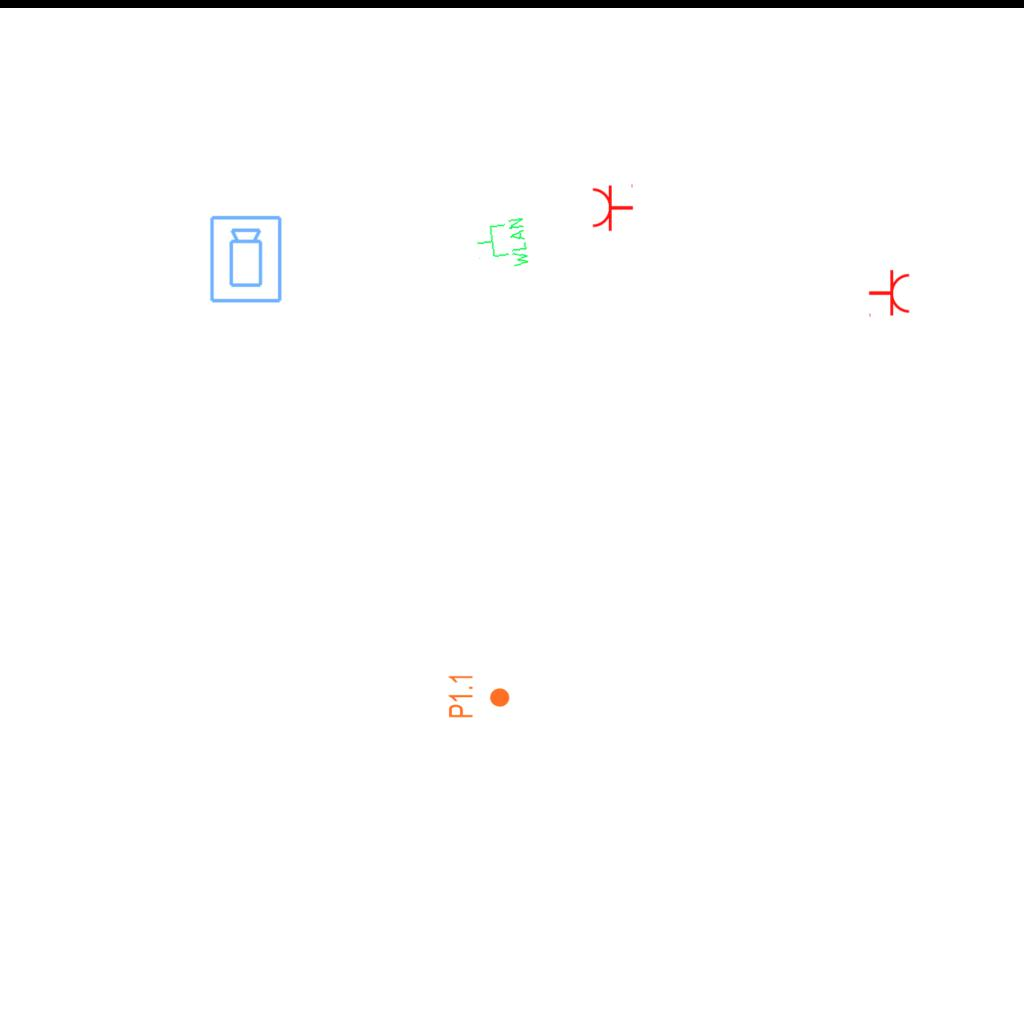Downlight_LED_Einbauleuchten_Flur: (447, 673, 511, 719)
KFO_Kamera_mit_Festobjektiv: (208, 214, 285, 305)
Schukosteckdose_einfach: (591, 182, 634, 232), (868, 269, 911, 319)
WLAN: (472, 215, 532, 275)
